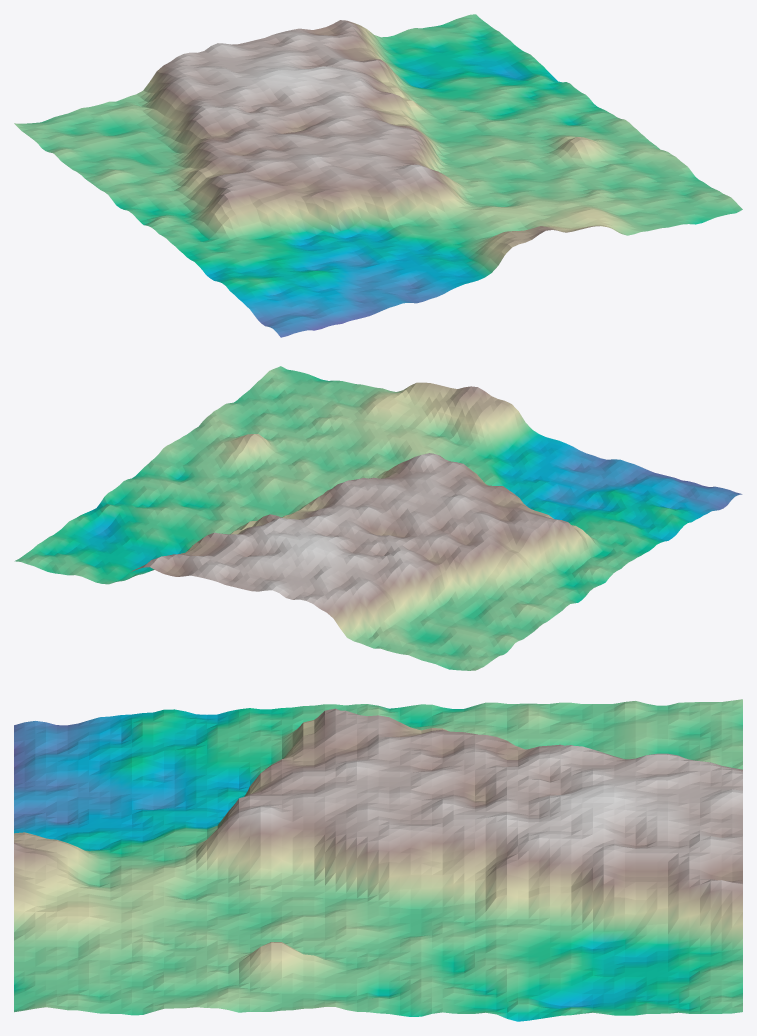
Rendered from 003392_terrain_only.glb.
3 renders of one model, top to bottom at view 1: azimuth 30°, elevation 25°; view 2: azimuth 150°, elevation 25°; view 3: azimuth 270°, elevation 25°, orthographic. The views are drawn at different scales.
Parts seen in each view (by area): view 1: terrain; view 2: terrain; view 3: terrain.
Boxes of the visible parts, x1,y1,x2,y2 form: terrain: (14, 14, 742, 337); terrain: (14, 366, 742, 670); terrain: (14, 699, 742, 1021).
Bounding box in the file's own units: 0.0183 × 0.00208 × 0.0183.
